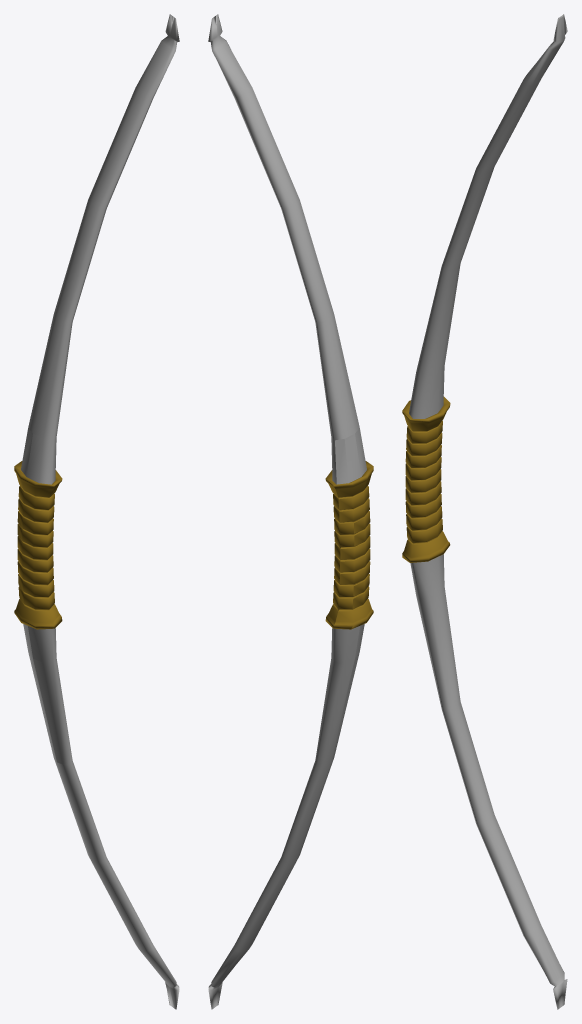
The model's file is bow.fbx.
The picture shows the model from 3 angles, left to right: view 1: azimuth 30°, elevation 25°; view 2: azimuth 150°, elevation 25°; view 3: azimuth 330°, elevation 25°; orthographic projection.
Parts seen in each view (by area): view 1: Cylinder01_Bindyeye_W, Cylinder01_08_-_Defau; view 2: Cylinder01_Bindyeye_W, Cylinder01_08_-_Defau; view 3: Cylinder01_Bindyeye_W, Cylinder01_08_-_Defau.
Boxes of the visible parts, <box> form: Cylinder01_Bindyeye_W: <box>21,14,179,1009</box>; Cylinder01_08_-_Defau: <box>14,461,62,629</box>; Cylinder01_Bindyeye_W: <box>208,14,366,1009</box>; Cylinder01_08_-_Defau: <box>325,461,373,629</box>; Cylinder01_Bindyeye_W: <box>409,14,567,1009</box>; Cylinder01_08_-_Defau: <box>402,396,450,562</box>.
Bounding box in the file's own units: 0.5851 × 3.58 × 0.2159.
